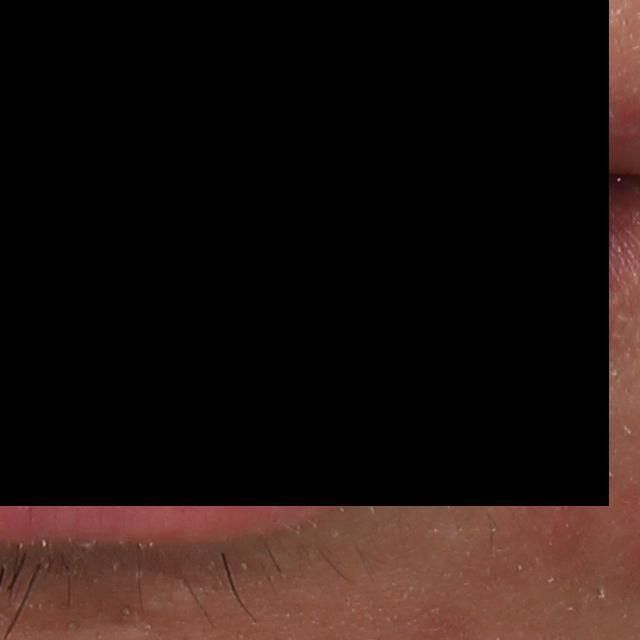hypertrophic_scar: (132, 579, 213, 620)
